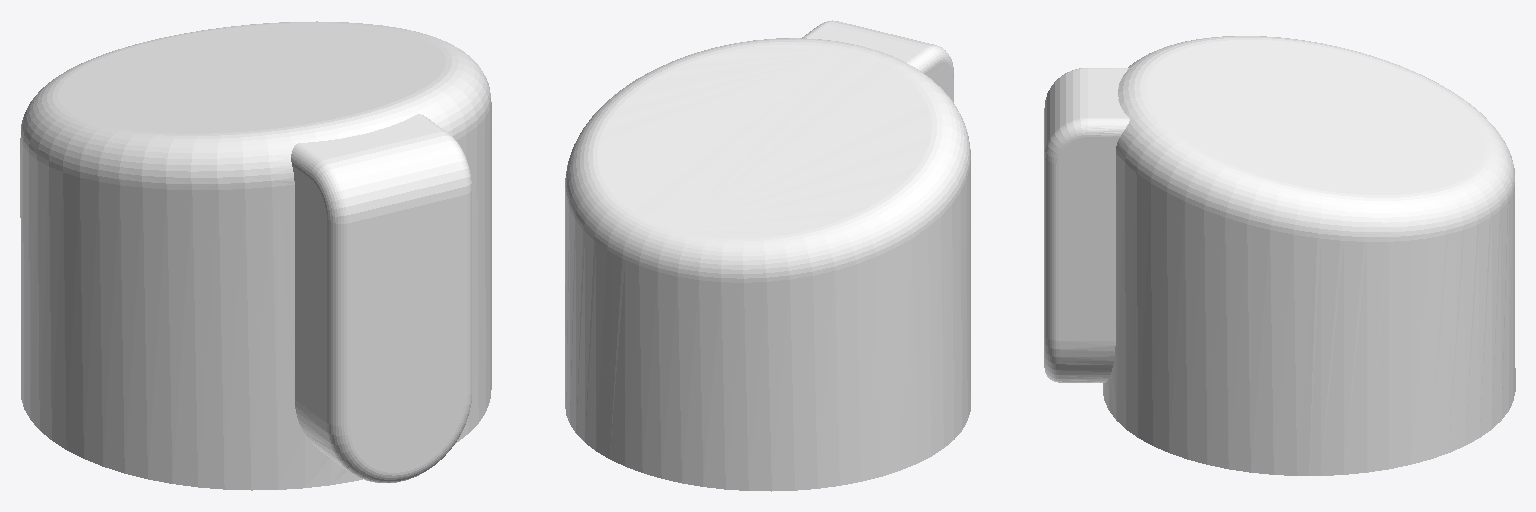
The robot description file, URDF, robot "tumbler":
<?xml version="1.0"?>

<robot name="tumbler">
  
  <link name="tumbler_cover_2">
    
    <inertial>
      <origin xyz="0 0 0" />
      <mass value="0.1" />
      <inertia  ixx="1.0" ixy="0.0"  ixz="0.0"  iyy="1.0"  iyz="0.0"  izz="1.0" />
    </inertial>

    <visual>
      <origin xyz="0 0 0"/>
      <geometry>
        <mesh filename="mesh/water_cap.obj" />
      </geometry>
      <material name="green">
	<color rgba="1.0 1.0 1.0 1.0"/>
      </material>
    </visual>
    
    <collision>
      <origin xyz="0 0 0"/>
      <geometry>
        <mesh filename="mesh/water_cap.obj" />
      </geometry>
    </collision>

  </link>

</robot>

--- Render facts (derived) ---
3 views of the same robot in one strip: view 1: azimuth 30°, elevation 25°; view 2: azimuth 150°, elevation 25°; view 3: azimuth 270°, elevation 25° (orthographic).
Model tumbler with 1 links and 0 joints (none), rooted at tumbler_cover_2, posed all joints at 0.
Visible links, largest first — view 1: tumbler_cover_2; view 2: tumbler_cover_2; view 3: tumbler_cover_2.
Link boxes in pixels (x1,y1,x2,y2): tumbler_cover_2: (20, 21, 491, 490); tumbler_cover_2: (565, 20, 970, 491); tumbler_cover_2: (1044, 36, 1515, 475).
Bounding box of the posed robot: 0.057 × 0.065 × 0.0459 m (x, y, z).
1 mesh visuals loaded from 1 distinct referenced files (1 OBJ).